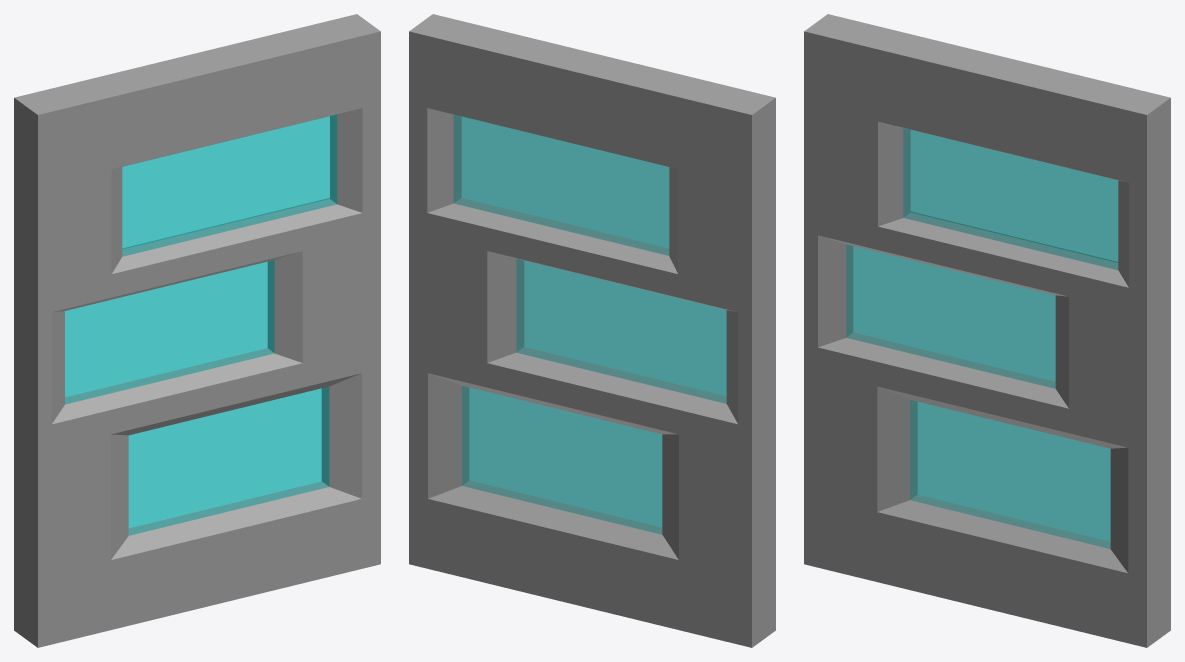
The model's file is door2.fbx.
The picture shows the model from 3 angles, left to right: view 1: azimuth 30°, elevation 25°; view 2: azimuth 150°, elevation 25°; view 3: azimuth 330°, elevation 25°; orthographic projection.
Visible parts, largest first — view 1: pCube1; view 2: pCube1; view 3: pCube1.
Part boxes in pixels (box(x1,y1,x2,y2)): pCube1: box(14, 14, 380, 647); pCube1: box(409, 14, 775, 647); pCube1: box(804, 14, 1170, 647).
Bounding box in the file's own units: 8.44 × 12.54 × 1.01.
